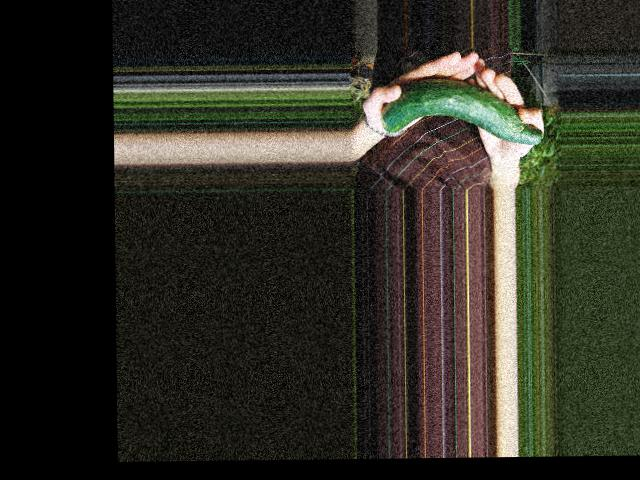cucumber: (380, 77, 542, 146)
